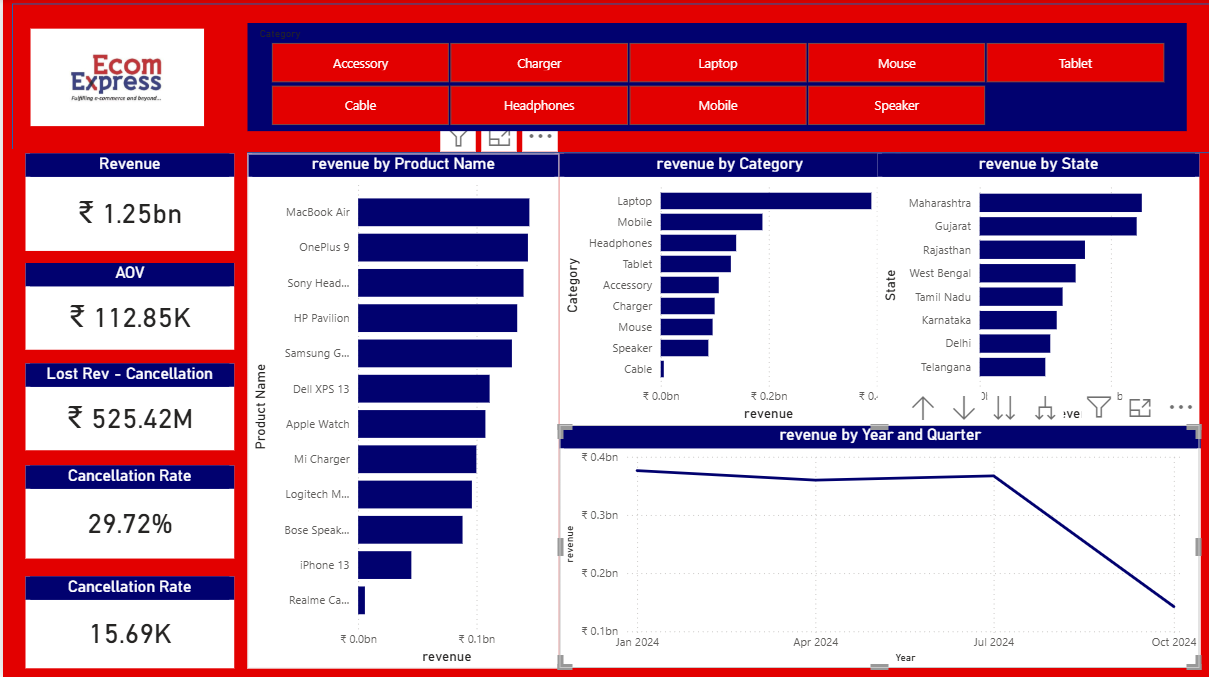

Layout of this report page (visuals, bound fields, positions):
{"tool":"powerbi","page":{"name":"Page 1","canvas":[1280,720],"ordinal":0},"visuals":[{"type":"shape","title":"revenue by Product","box":[9.7,4.9,1271.1,158.7],"z":0},{"type":"shape","box":[9.7,158.7,249.4,561.9],"z":1000},{"type":"image","box":[24.3,25.9,194.3,115],"z":2000},{"type":"barChart","fields":{"Y":["Table.revenue"],"Category":["Products.Product Name"]},"box":[259.1,163.5,330.3,545.7],"z":3000},{"type":"barChart","fields":{"Y":["Table.revenue"],"Category":["Products.Category"]},"box":[589.4,163.5,361.1,288.2],"z":4000},{"type":"lineChart","fields":{"Category":["Orders.Date and time of purchase.Variation.Date Hierarchy.Year","Orders.Date and time of purchase.Variation.Date Hierarchy.Quarter","Orders.Date and time of purchase.Variation.Date Hierarchy.Month","Orders.Date and time of purchase.Variation.Date Hierarchy.Day"],"Y":["Table.revenue"]},"box":[589.4,451.8,680.1,257.5],"z":5000},{"type":"barChart","fields":{"Category":["customers.State"],"Y":["Table.revenue"]},"box":[927.8,163.5,341.7,288.2],"z":6000},{"type":"slicer","fields":{"Values":["Products.Category"]},"box":[259.1,25.9,995.8,115],"z":7000},{"type":"card","title":"Revenue","fields":{"Values":["Table.revenue"]},"box":[23.9,163.8,221.1,103.4],"z":8000},{"type":"card","title":"AOV","fields":{"Values":["Table.AOV"]},"box":[23.9,279.9,221.1,92.3],"z":9000},{"type":"card","title":"Lost Rev - Cancellation","fields":{"Values":["Table.lost_rev_cancellation"]},"box":[23.9,386.5,221.1,92.3],"z":10000},{"type":"card","title":"Cancellation Rate","fields":{"Values":["Table.cancellation_rate"]},"box":[23.9,494.7,221.1,98.6],"z":11000},{"type":"card","title":"Cancellation Rate","fields":{"Values":["CountNonNull(Orders.OrderID)"]},"box":[23.9,612.4,221.1,97],"z":12000}]}

Visuals, with their boxes in screenshot pixels (x1, y1, x2, y2), scaled from the page's 1280x720 canvas onto the 1209x677 screenshot:
"revenue by Product" shape: <bbox>9, 5, 1208, 154</bbox>
shape: <bbox>9, 149, 245, 676</bbox>
image: <bbox>23, 24, 206, 132</bbox>
barChart - Table.revenue x Products.Product Name: <bbox>245, 154, 557, 667</bbox>
barChart - Table.revenue x Products.Category: <bbox>557, 154, 898, 425</bbox>
lineChart - Orders.Date and time of purchase.Variation.Date Hierarchy.Year x Orders.Date and time of purchase.Variation.Date Hierarchy.Quarter: <bbox>557, 425, 1199, 667</bbox>
barChart - customers.State x Table.revenue: <bbox>876, 154, 1199, 425</bbox>
slicer - Products.Category: <bbox>245, 24, 1185, 132</bbox>
"Revenue" card: <bbox>23, 154, 231, 251</bbox>
"AOV" card: <bbox>23, 263, 231, 350</bbox>
"Lost Rev - Cancellation" card: <bbox>23, 363, 231, 450</bbox>
"Cancellation Rate" card: <bbox>23, 465, 231, 558</bbox>
"Cancellation Rate" card: <bbox>23, 576, 231, 667</bbox>
